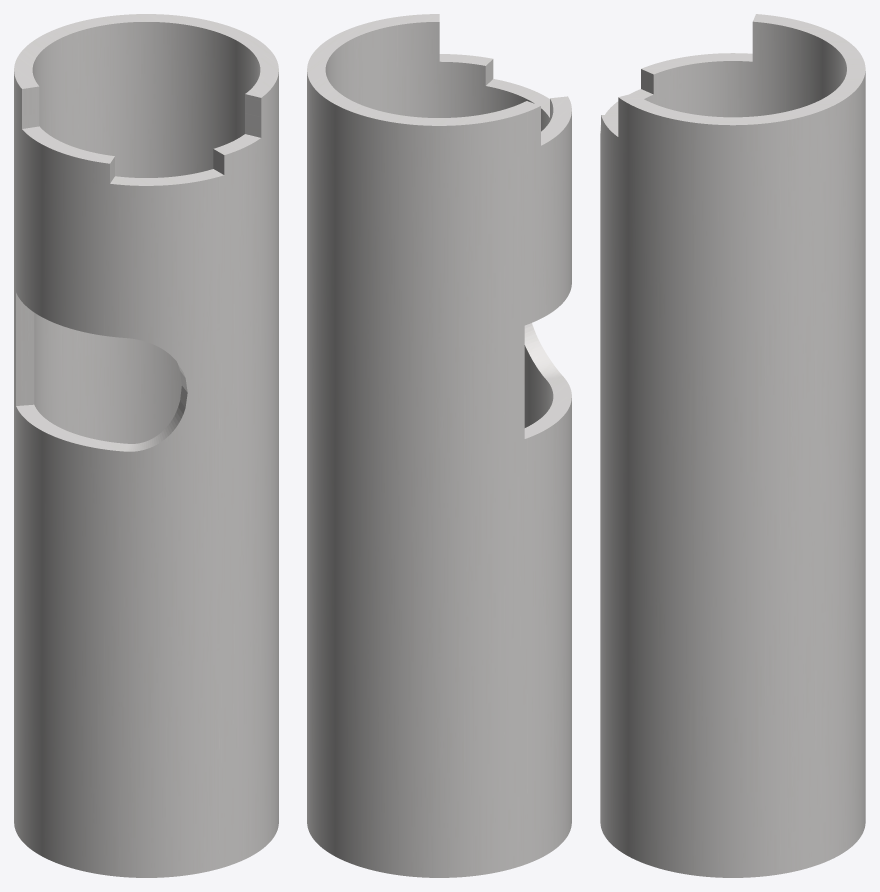
File: knight-white.glb
3 views of the same model, side by side, from view 1: azimuth 30°, elevation 25°; view 2: azimuth 150°, elevation 25°; view 3: azimuth 270°, elevation 25° (orthographic).
Parts seen in each view (by area): view 1: 04_jezdec_bila; view 2: 04_jezdec_bila; view 3: 04_jezdec_bila.
Part boxes in pixels (box(x1,y1,x2,y2)): 04_jezdec_bila: box(14, 14, 278, 877); 04_jezdec_bila: box(307, 14, 571, 877); 04_jezdec_bila: box(600, 14, 865, 877).
Size of the model in its own units: 0.4659 by 1.46 by 0.4659.
Materials: 1 (1 with a texture image).
